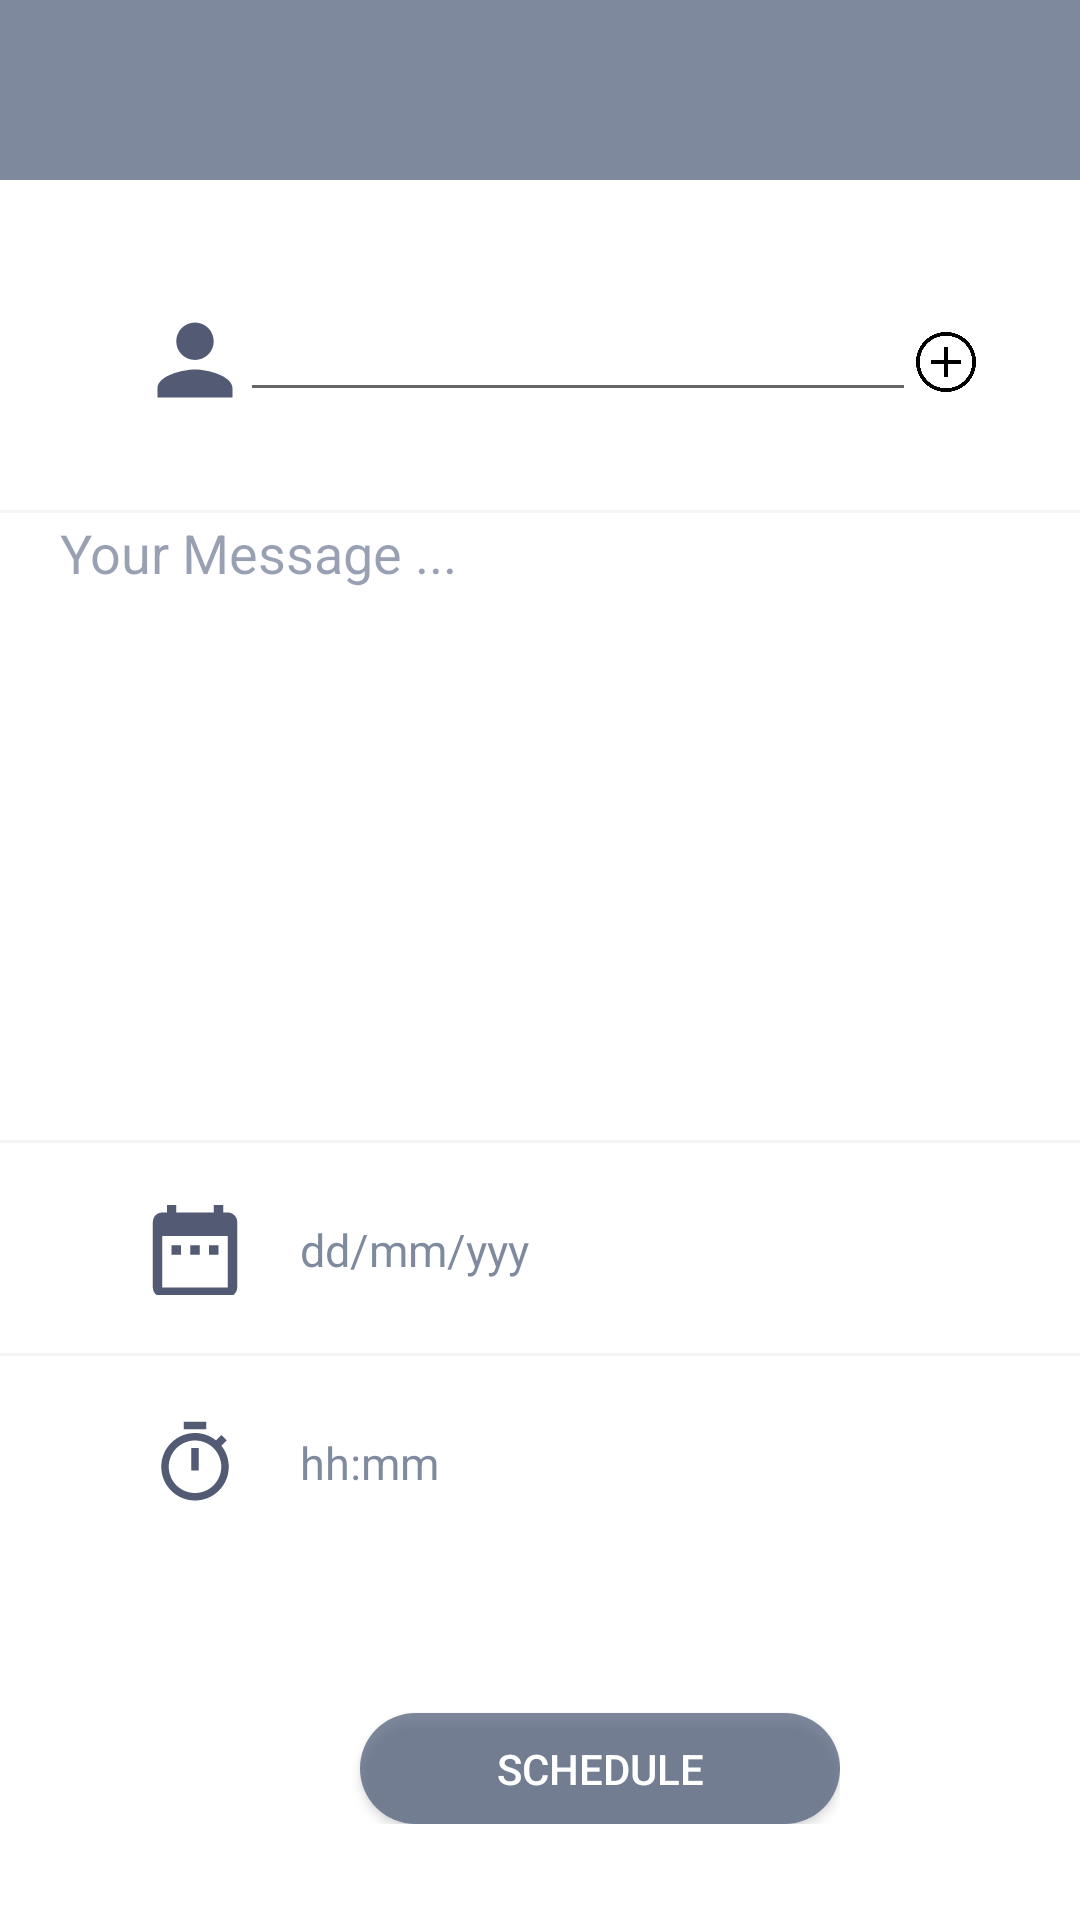

Screen size 1080 x 1920. Icon name, then its center in pixels as point (x, y):
add: point (946, 362)
date: point (195, 1250)
time: point (195, 1461)
user: point (195, 360)
